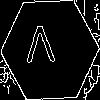V: (25, 25, 56, 72)
